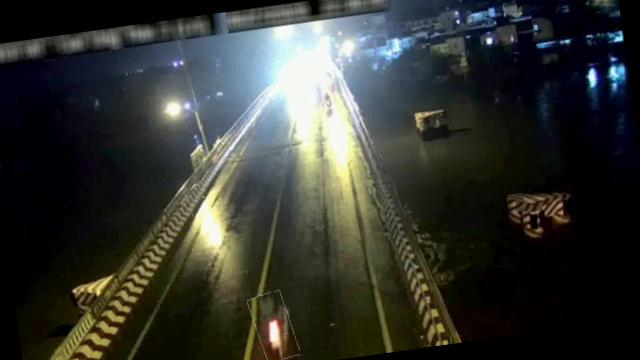Bike: (249, 289, 298, 360)
